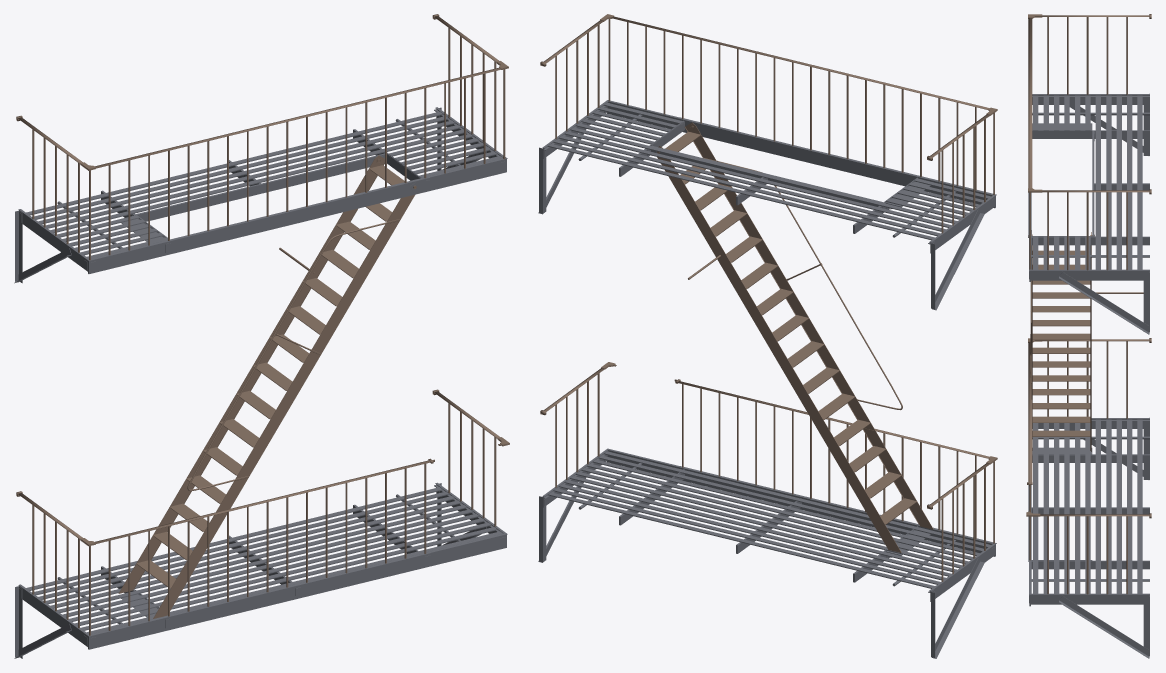
Rendered from fire-escape.glb.
3 views of the same model, side by side, from view 1: azimuth 30°, elevation 25°; view 2: azimuth 150°, elevation 25°; view 3: azimuth 270°, elevation 25° (orthographic). The views are drawn at different scales.
Visible parts, largest first — view 1: modular_fire_escape_platform_bottom, modular_fire_escape_platform_middle, modular_fire_escape_stairs, modular_fire_escape_railing_middle, modular_fire_escape_railing_bottom; view 2: modular_fire_escape_platform_bottom, modular_fire_escape_platform_middle, modular_fire_escape_stairs, modular_fire_escape_railing_middle, modular_fire_escape_railing_bottom; view 3: modular_fire_escape_platform_bottom, modular_fire_escape_platform_middle, modular_fire_escape_stairs, modular_fire_escape_railing_middle, modular_fire_escape_railing_bottom.
Part boxes in pixels (left/top/right/bottom): modular_fire_escape_platform_bottom: left=14, top=482, right=507, bottom=658; modular_fire_escape_platform_middle: left=14, top=107, right=507, bottom=283; modular_fire_escape_stairs: left=118, top=155, right=416, bottom=618; modular_fire_escape_railing_middle: left=16, top=14, right=508, bottom=260; modular_fire_escape_railing_bottom: left=16, top=389, right=509, bottom=635; modular_fire_escape_platform_bottom: left=538, top=448, right=996, bottom=658; modular_fire_escape_platform_middle: left=538, top=100, right=996, bottom=310; modular_fire_escape_stairs: left=657, top=122, right=933, bottom=552; modular_fire_escape_railing_middle: left=540, top=14, right=997, bottom=233; modular_fire_escape_railing_bottom: left=540, top=362, right=997, bottom=581; modular_fire_escape_platform_bottom: left=1028, top=417, right=1149, bottom=658; modular_fire_escape_platform_middle: left=1028, top=93, right=1149, bottom=334; modular_fire_escape_stairs: left=1028, top=230, right=1143, bottom=451; modular_fire_escape_railing_middle: left=1028, top=14, right=1151, bottom=270; modular_fire_escape_railing_bottom: left=1026, top=338, right=1151, bottom=594.
Bounding box in the file's own units: 4.79 × 5.77 × 1.41.
